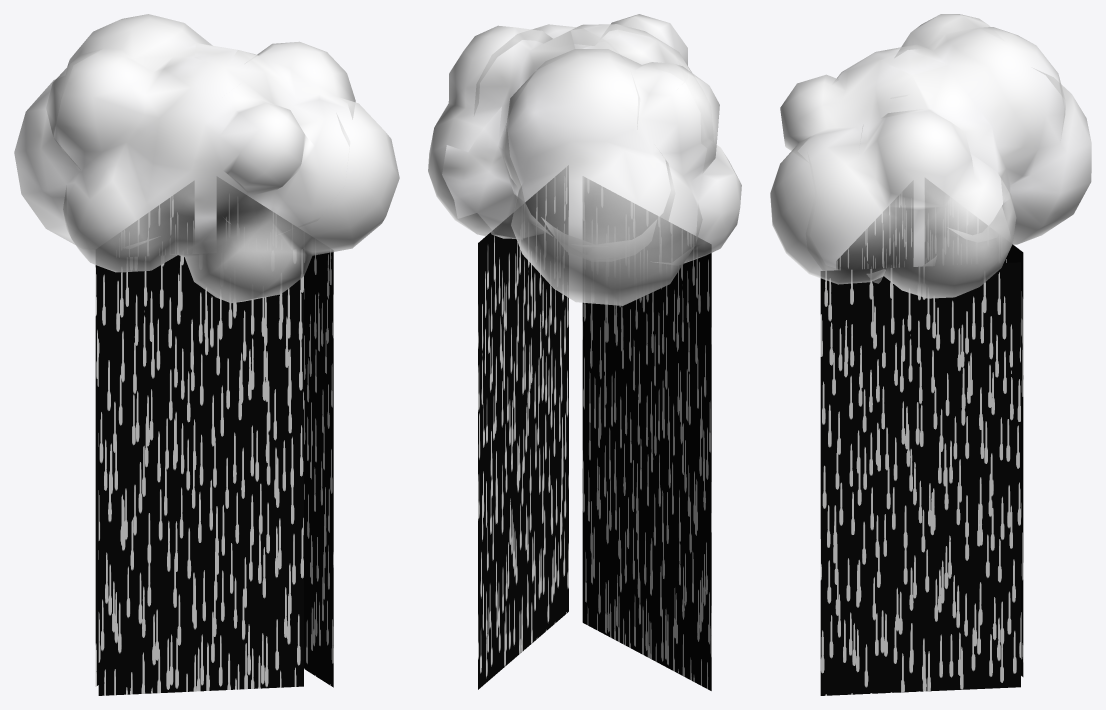
File: cloud.glb
3 views of the same model, side by side, from view 1: azimuth 30°, elevation 25°; view 2: azimuth 150°, elevation 25°; view 3: azimuth 270°, elevation 25° (orthographic). The views are drawn at different scales.
Parts seen in each view (by area): view 1: rain3, cloud, rain1, rain2; view 2: cloud, rain3, rain1; view 3: rain1, cloud, rain3, rain2.
Part boxes in pixels (x1=…): rain3: x1=98, y1=251, x2=303, y2=695; cloud: x1=14, y1=14, x2=399, y2=303; rain1: x1=216, y1=187, x2=333, y2=687; rain2: x1=95, y1=182, x2=194, y2=686; cloud: x1=428, y1=14, x2=741, y2=305; rain3: x1=582, y1=177, x2=711, y2=690; rain1: x1=478, y1=169, x2=568, y2=689; rain1: x1=820, y1=262, x2=1020, y2=695; cloud: x1=770, y1=14, x2=1091, y2=298; rain3: x1=837, y1=204, x2=913, y2=269; rain2: x1=925, y1=212, x2=1023, y2=676.
Bounding box in the file's own units: 1.82 × 3.9 × 1.86.
2 materials, 2 textured.
